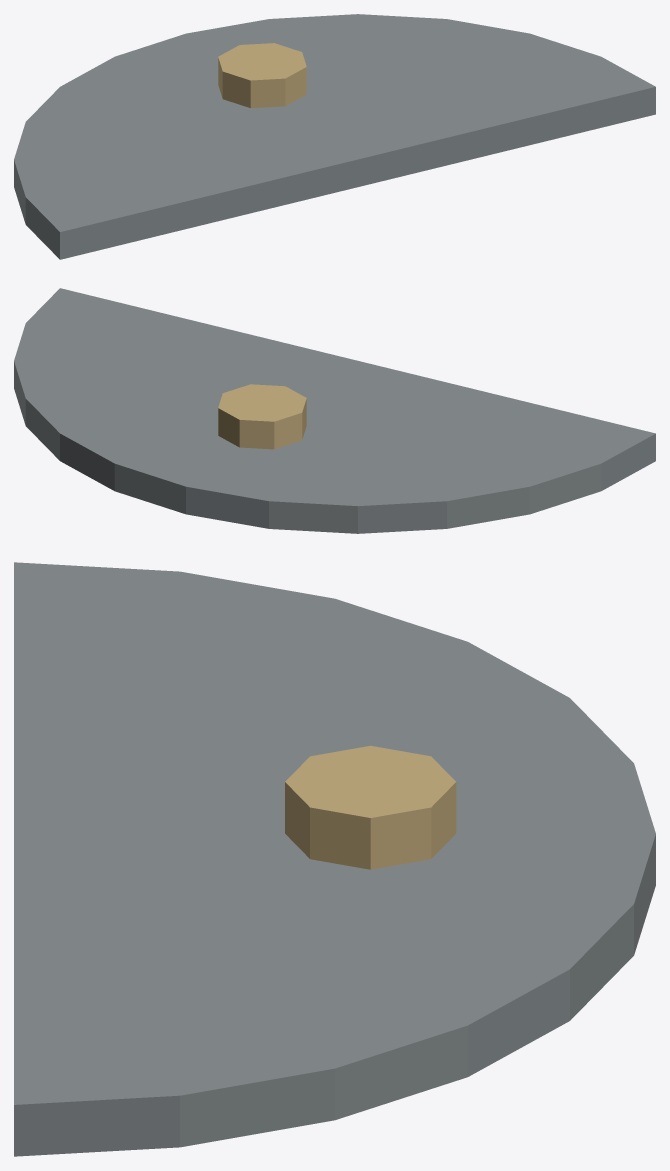
File: PR-TOKEN.glb
3 renders of one model, top to bottom at view 1: azimuth 30°, elevation 25°; view 2: azimuth 150°, elevation 25°; view 3: azimuth 270°, elevation 25°, orthographic. The views are drawn at different scales.
Parts seen in each view (by area): view 1: broken_half_token, lanyard_eye; view 2: broken_half_token, lanyard_eye; view 3: broken_half_token, lanyard_eye.
Boxes of the visible parts, left/top/right/bottom form: broken_half_token: left=14, top=14, right=655, bottom=259; lanyard_eye: left=218, top=43, right=306, bottom=108; broken_half_token: left=14, top=288, right=655, bottom=533; lanyard_eye: left=218, top=384, right=306, bottom=449; broken_half_token: left=14, top=562, right=655, bottom=1156; lanyard_eye: left=285, top=745, right=456, bottom=869.
Size of the model in its own units: 0.09 by 0.008 by 0.045.
